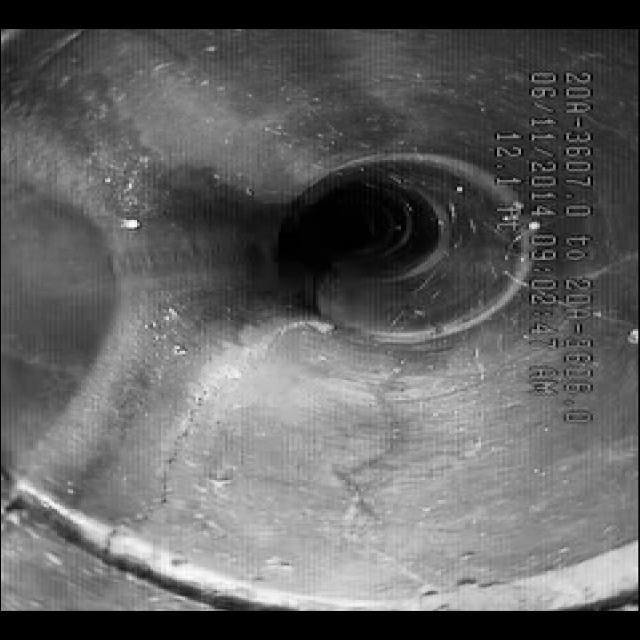Crack: (114, 322, 268, 540), (316, 363, 434, 547)
